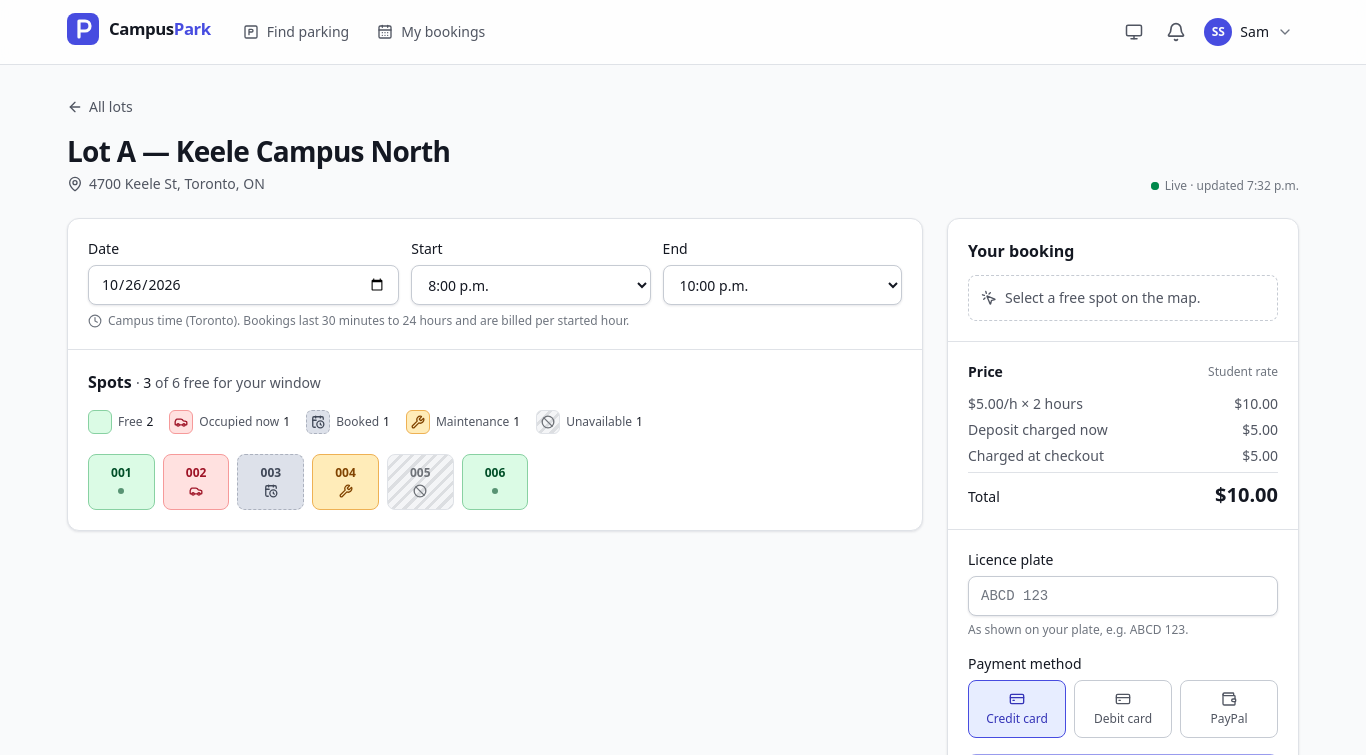
Test case: booking form › books the selected spot with an upper-cased plate
This screenshot has width=1366, height=755.
Step 1. Click the radio button named "Spot A-001, Free" → (121, 482), box 88,454 -> 155,510
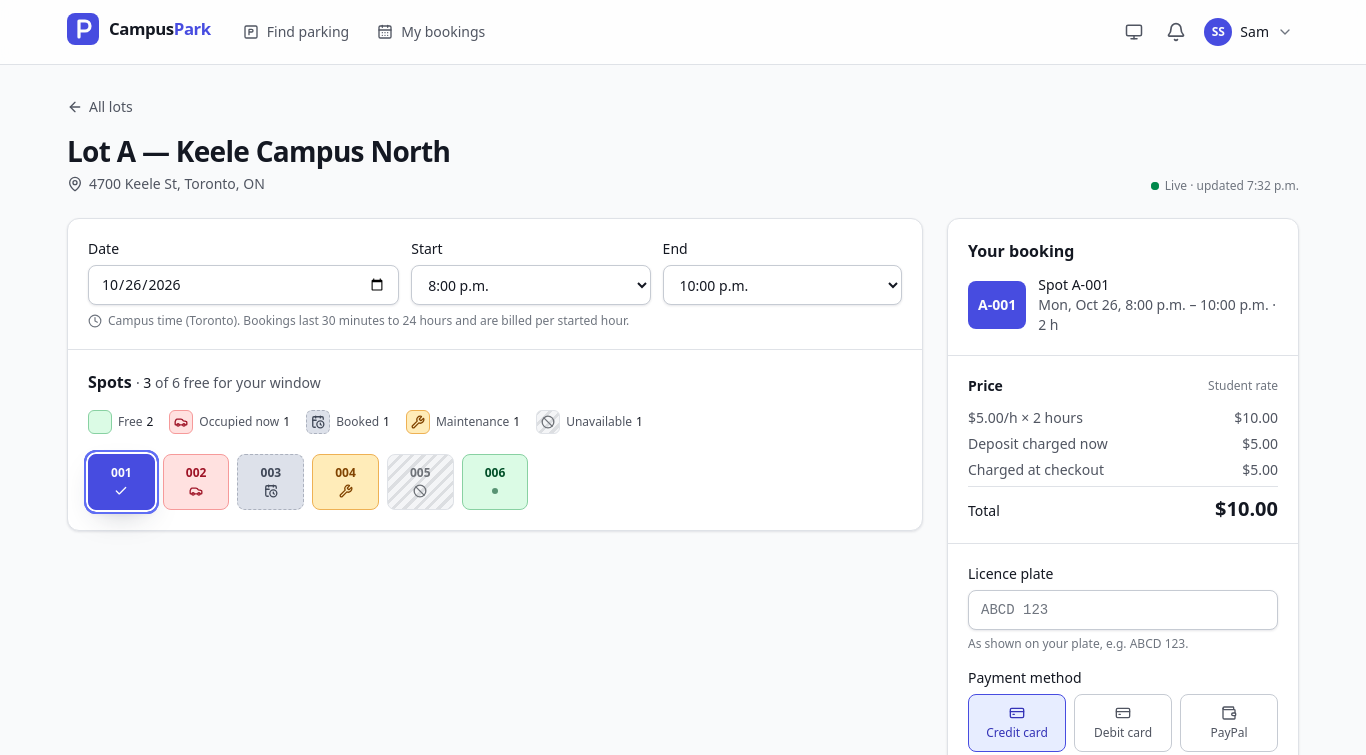
Step 2. Type "abcd 123" into the field labelled "Licence plate" → (1123, 610), box 968,590 -> 1278,630
(page scrolled)
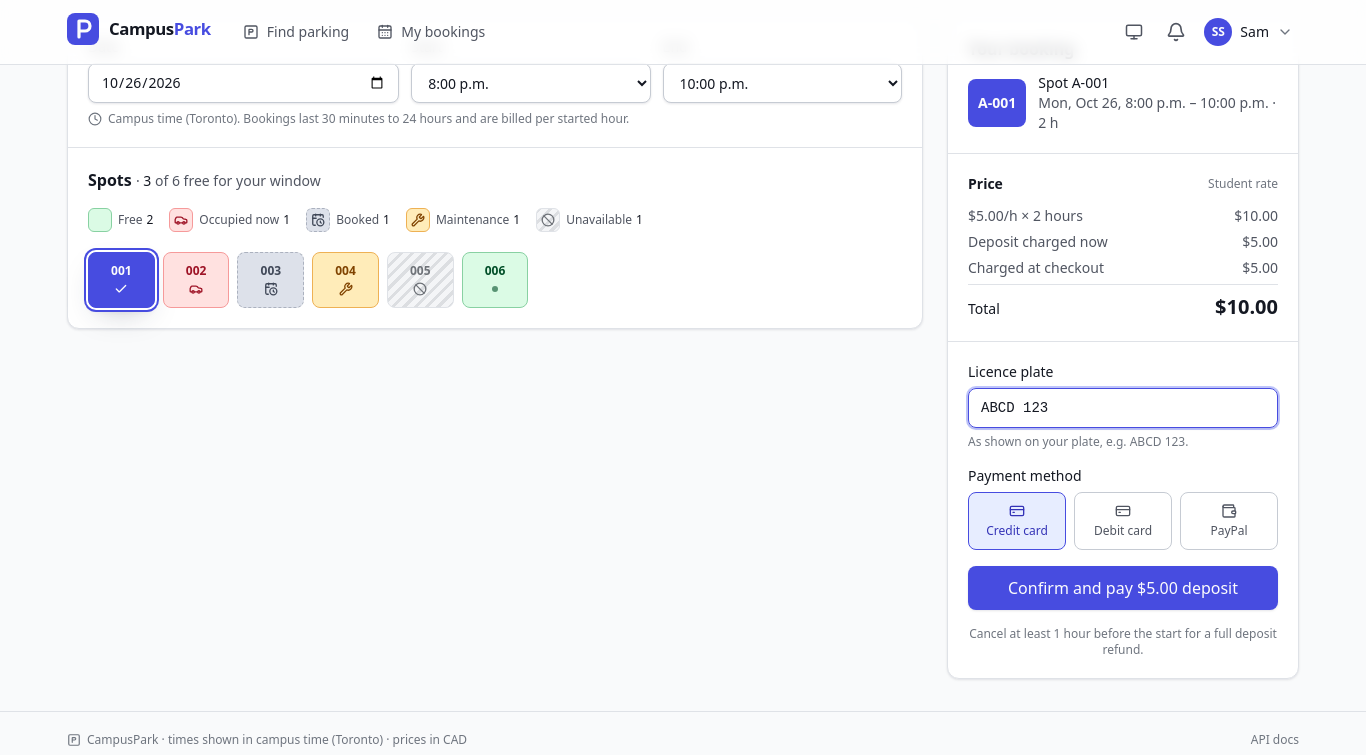
Step 3. Click the button "Confirm and pay $5.00 deposit" → (1123, 588), box 968,566 -> 1278,610
(page scrolled)
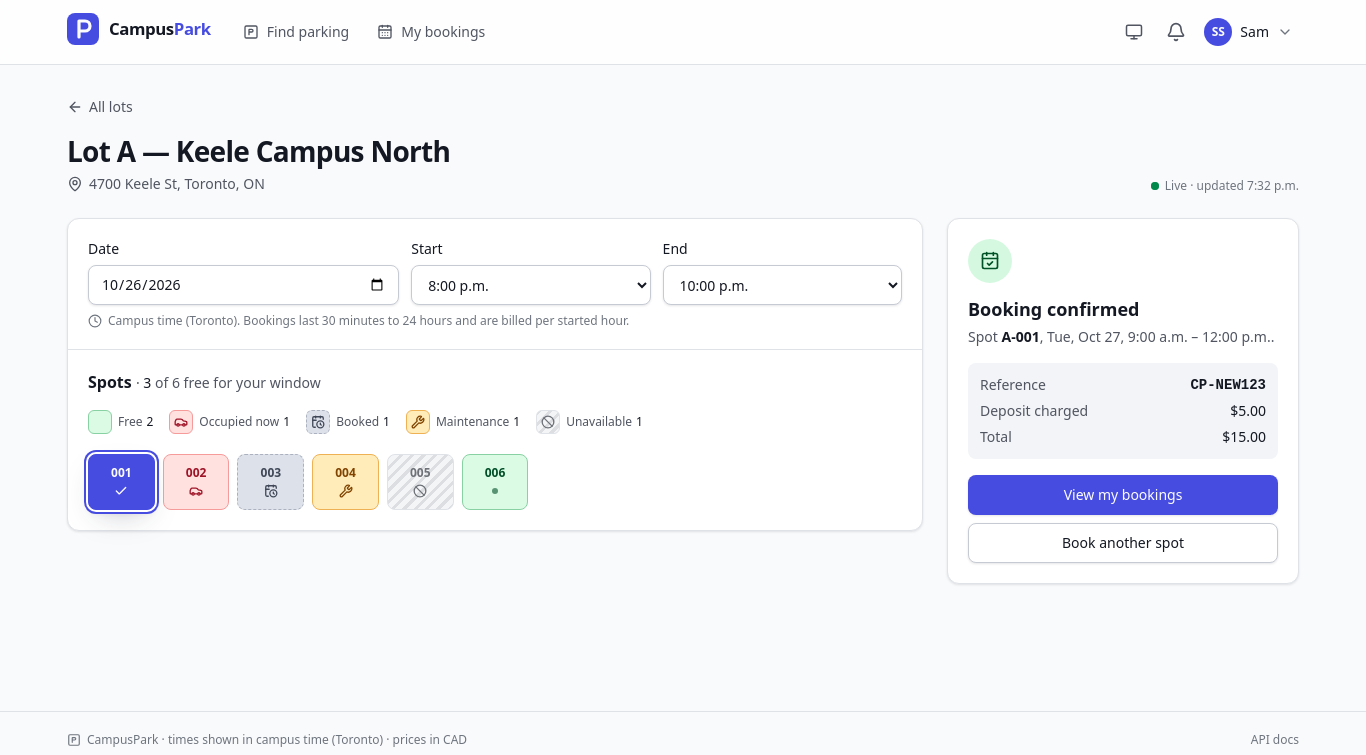
Check: the text "Booking confirmed" is shown, box 968,297 -> 1140,321
Check: the text "CP-NEW123" is shown, box 1190,375 -> 1266,395
